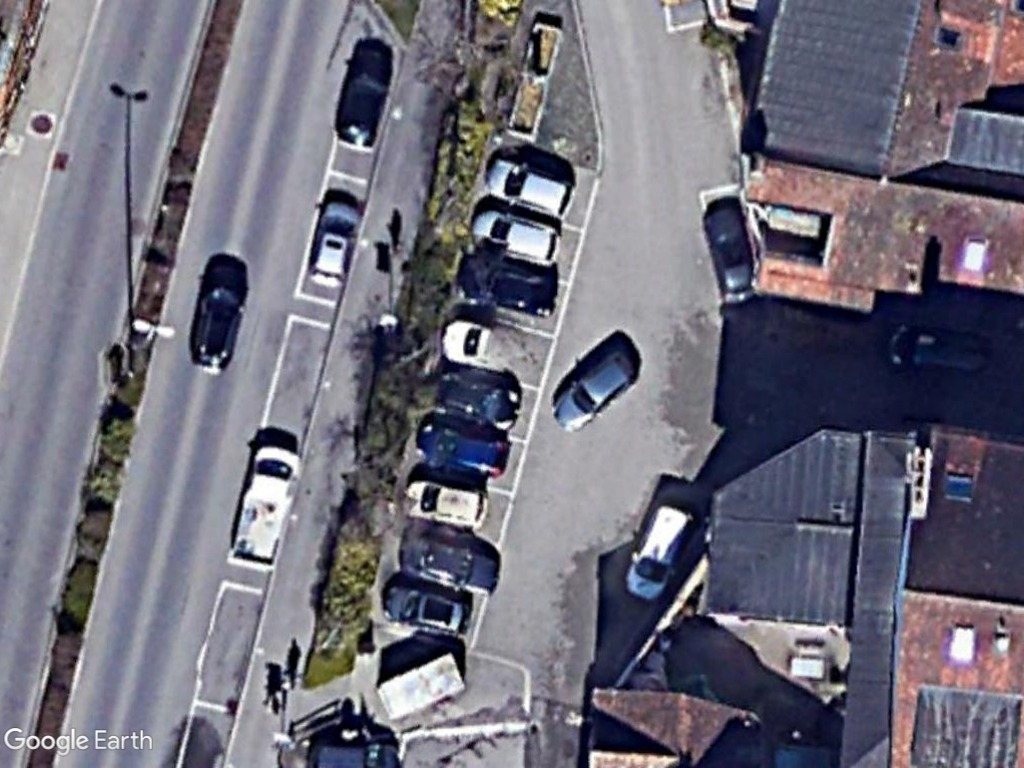car: (550, 347, 646, 432), (623, 499, 695, 604), (186, 267, 249, 376), (331, 45, 394, 152), (483, 154, 577, 224), (415, 419, 512, 484), (380, 579, 478, 640), (467, 205, 565, 263), (304, 194, 361, 292), (403, 472, 491, 533)
others: (222, 442, 301, 574)
